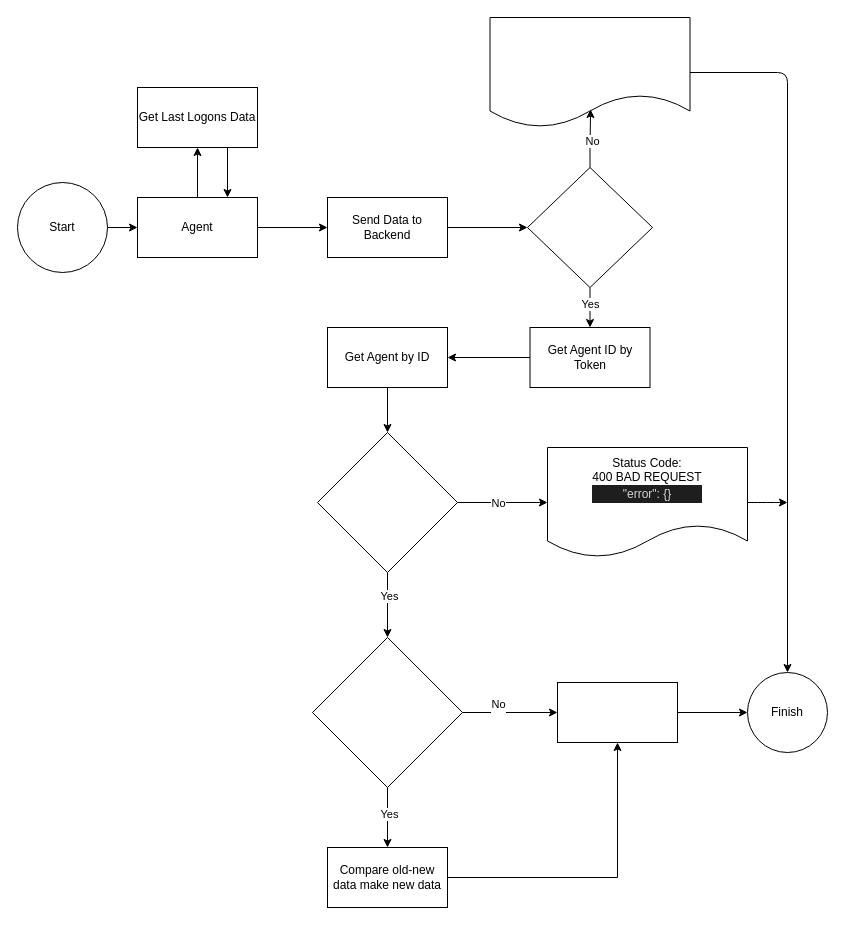
The diagram is 845 pixels wide and 925 high, and some of its shapes have lost their labels. The shapes that lost their labels are listed below. From the top down, each one's box as (x1, y1, x2, y2) in pixels, then its label:
(489, 16, 690, 128): Status Code: 498 "message": "Token is invalid"
(526, 166, 652, 288): Agent Token Valid
(316, 432, 458, 572): Is data match with valid schema?
(312, 636, 462, 788): Is Last Logon data exist for this agent?
(556, 682, 678, 742): Write to DB
